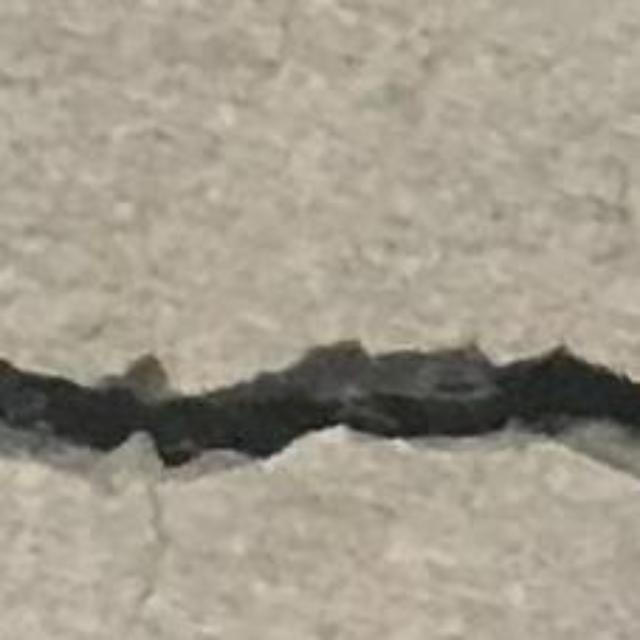crack: (0, 342, 639, 482)
